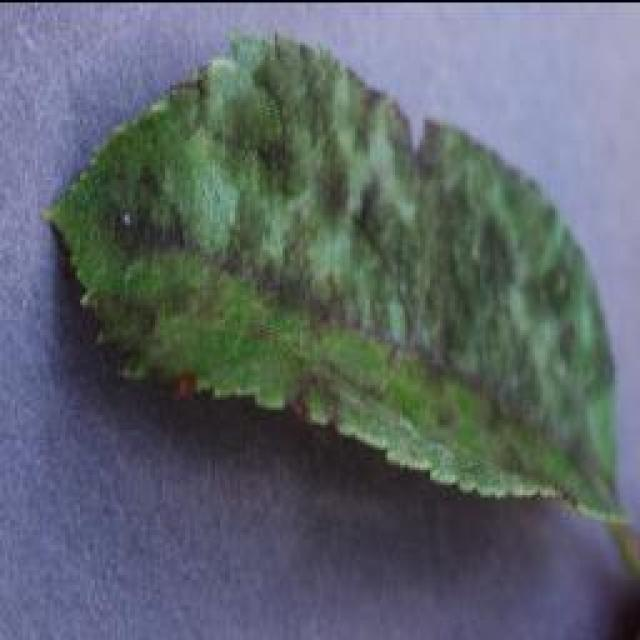apple scab disease: (38, 28, 638, 540)
